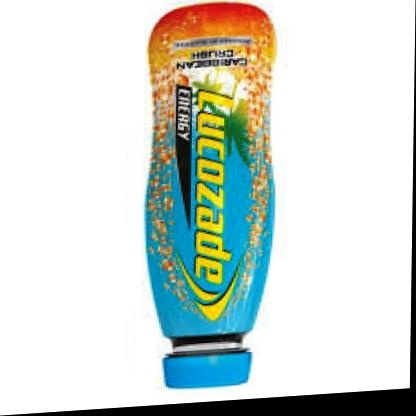trash: (146, 3, 275, 387)
